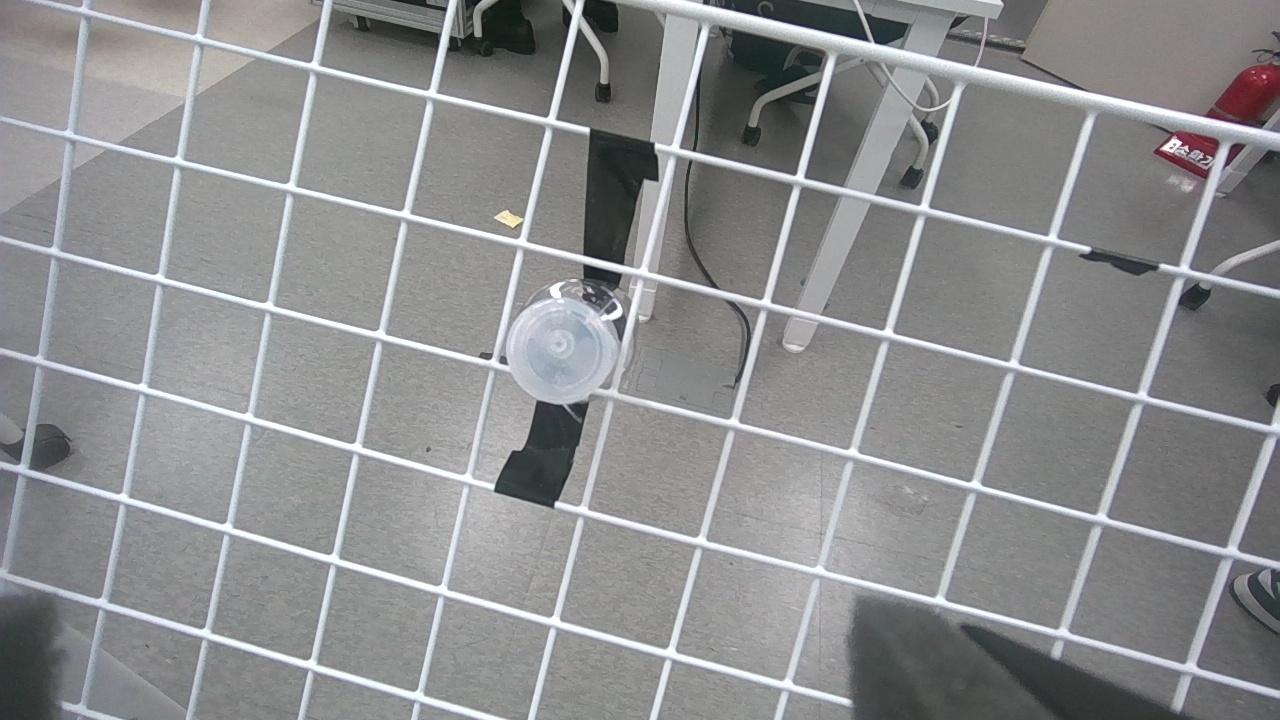Cap: (507, 295, 619, 403)
